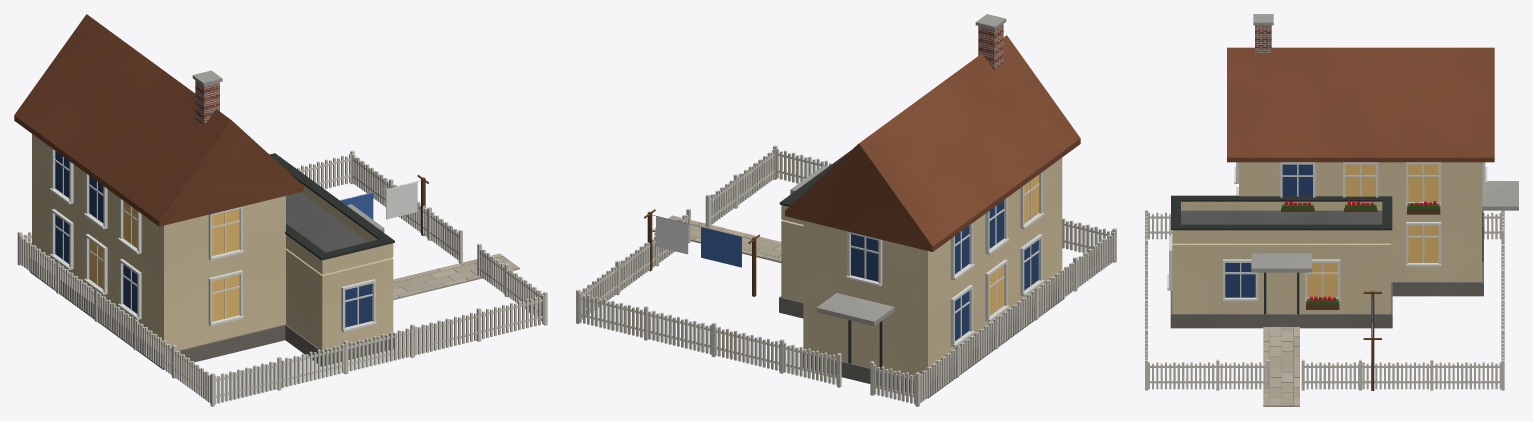
Rendered from dum_1a_domy_0.glb.
3 renders of one model, left to right at view 1: azimuth 30°, elevation 25°; view 2: azimuth 150°, elevation 25°; view 3: azimuth 270°, elevation 25°, orthographic. The views are drawn at different scales.
Parts seen in each view (by area): view 1: dum, noc; view 2: dum, noc; view 3: dum, noc.
Part boxes in pixels (x1=…): dum: x1=14, y1=14, x2=547, y2=406; noc: x1=89, y1=201, x2=239, y2=321; dum: x1=576, y1=14, x2=1116, y2=406; noc: x1=989, y1=175, x2=1038, y2=315; dum: x1=1145, y1=14, x2=1518, y2=406; noc: x1=1307, y1=164, x2=1438, y2=297.
Size of the model in its own units: 13.3 by 8.98 by 12.26.
1 material, 1 textured.
